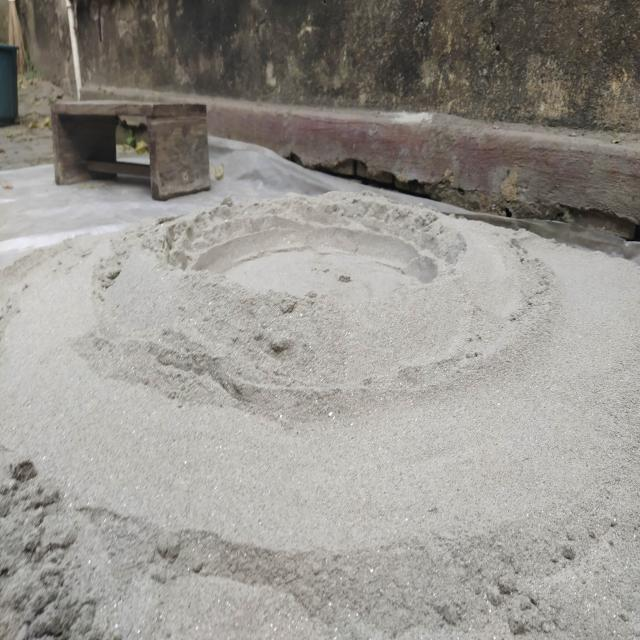C40: (190, 213, 437, 293)
